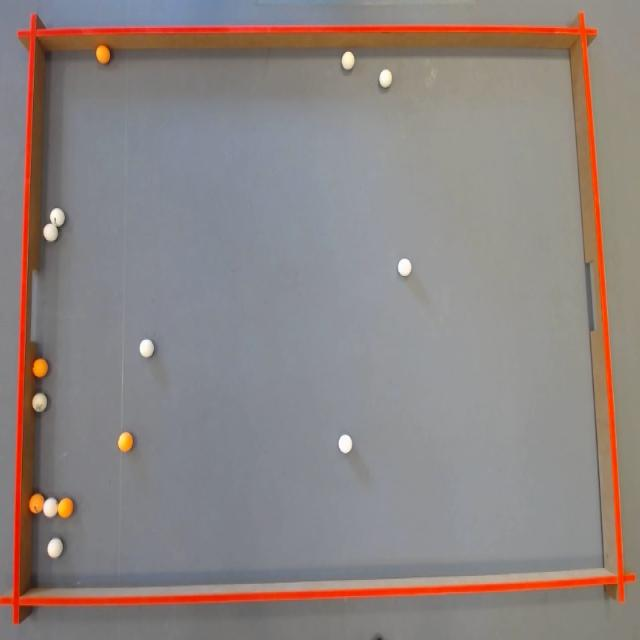orange_ball: (58, 498, 74, 518), (118, 432, 133, 452), (33, 358, 48, 378), (29, 494, 44, 514), (96, 45, 110, 64)
white_ball: (47, 538, 63, 559), (32, 393, 47, 413), (43, 498, 58, 518), (50, 208, 65, 228), (139, 339, 154, 358), (43, 223, 58, 242), (338, 434, 352, 454), (379, 69, 392, 88), (398, 258, 411, 276), (342, 51, 354, 70)
